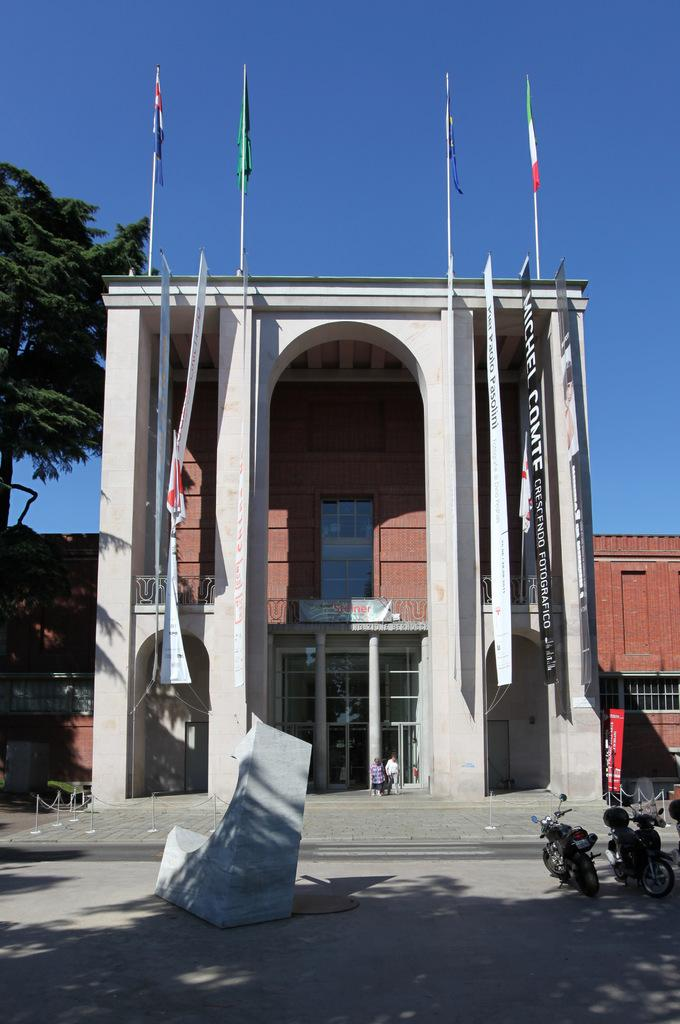Motorcycle: (542, 814, 617, 898)
